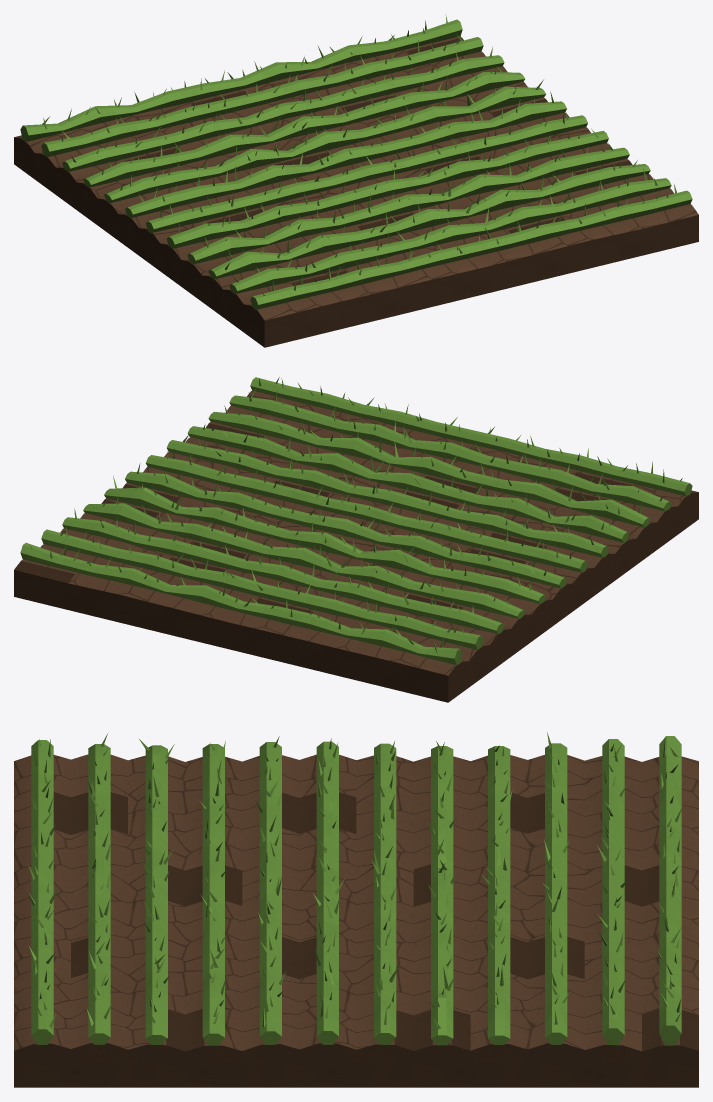
Rendered from field_carrot.glb.
3 views of the same model, one above another, from view 1: azimuth 30°, elevation 25°; view 2: azimuth 150°, elevation 25°; view 3: azimuth 270°, elevation 25° (orthographic). The views are drawn at different scales.
Parts seen in each view (by area): view 1: field_carrot; view 2: field_carrot; view 3: field_carrot.
Part boxes in pixels (x1,y1,x2,y2): field_carrot: (14,14,698,347); field_carrot: (14,377,698,702); field_carrot: (14,732,698,1087).
Bounding box in the file's own units: 8 × 0.9618 × 8.
4 materials, 4 textured.
